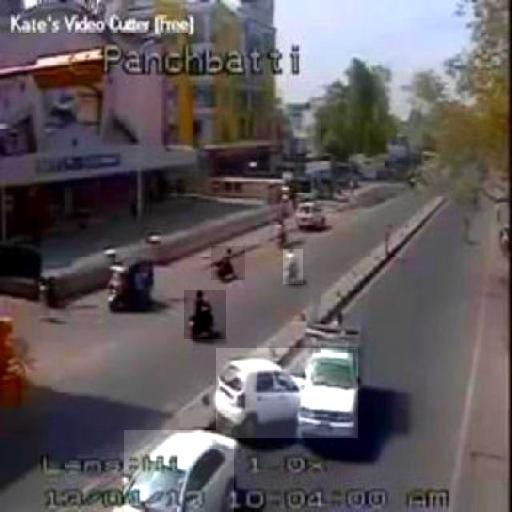小汽车: (124, 430, 234, 512)
小汽车撞小汽车: (216, 348, 358, 438)
自行车: (184, 290, 226, 339), (211, 246, 245, 280), (283, 249, 303, 284)
